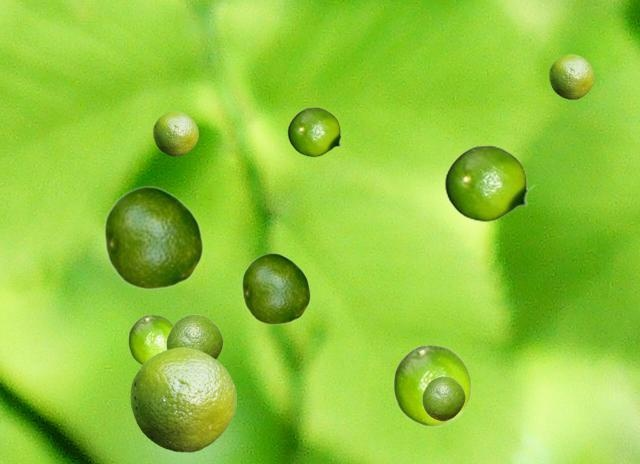calamansi: (130, 347, 235, 451), (103, 185, 203, 289), (444, 145, 536, 221), (393, 344, 471, 425), (241, 252, 310, 324), (287, 107, 346, 156), (166, 314, 222, 358), (128, 314, 173, 364), (549, 54, 593, 98), (153, 111, 197, 155), (422, 376, 464, 420)
